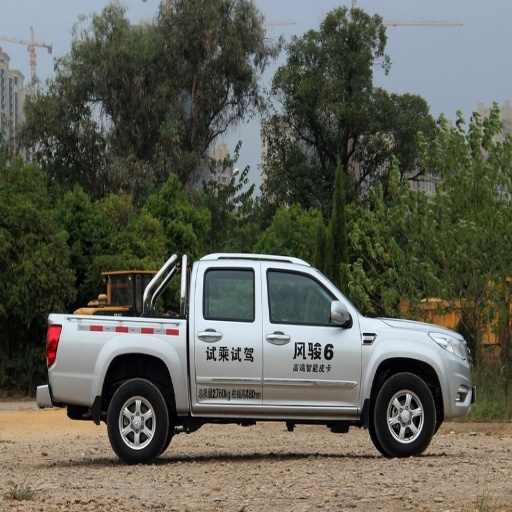back_right_door: (194, 261, 263, 403)
front_right_door: (263, 263, 361, 404)
trunk: (50, 320, 189, 409)
